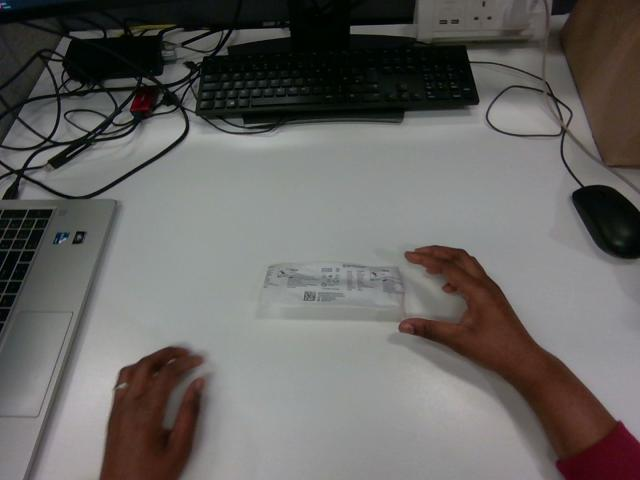syringe: (261, 262, 403, 308)
